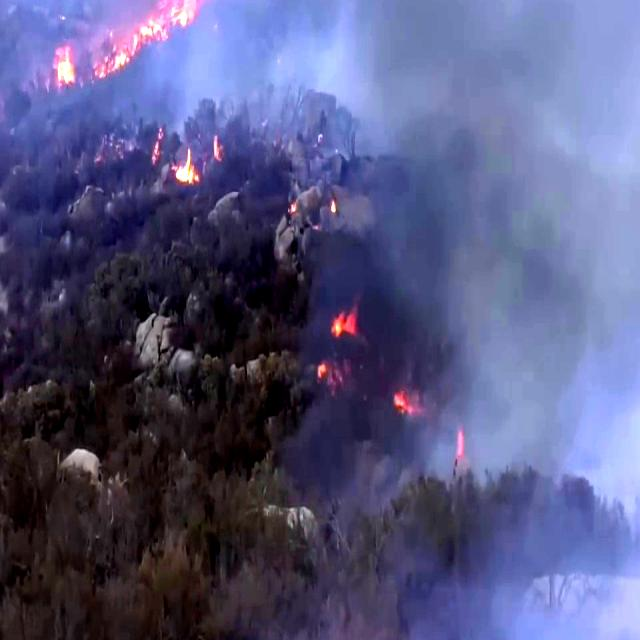fire: (102, 0, 208, 53)
smoke: (523, 0, 640, 442)
